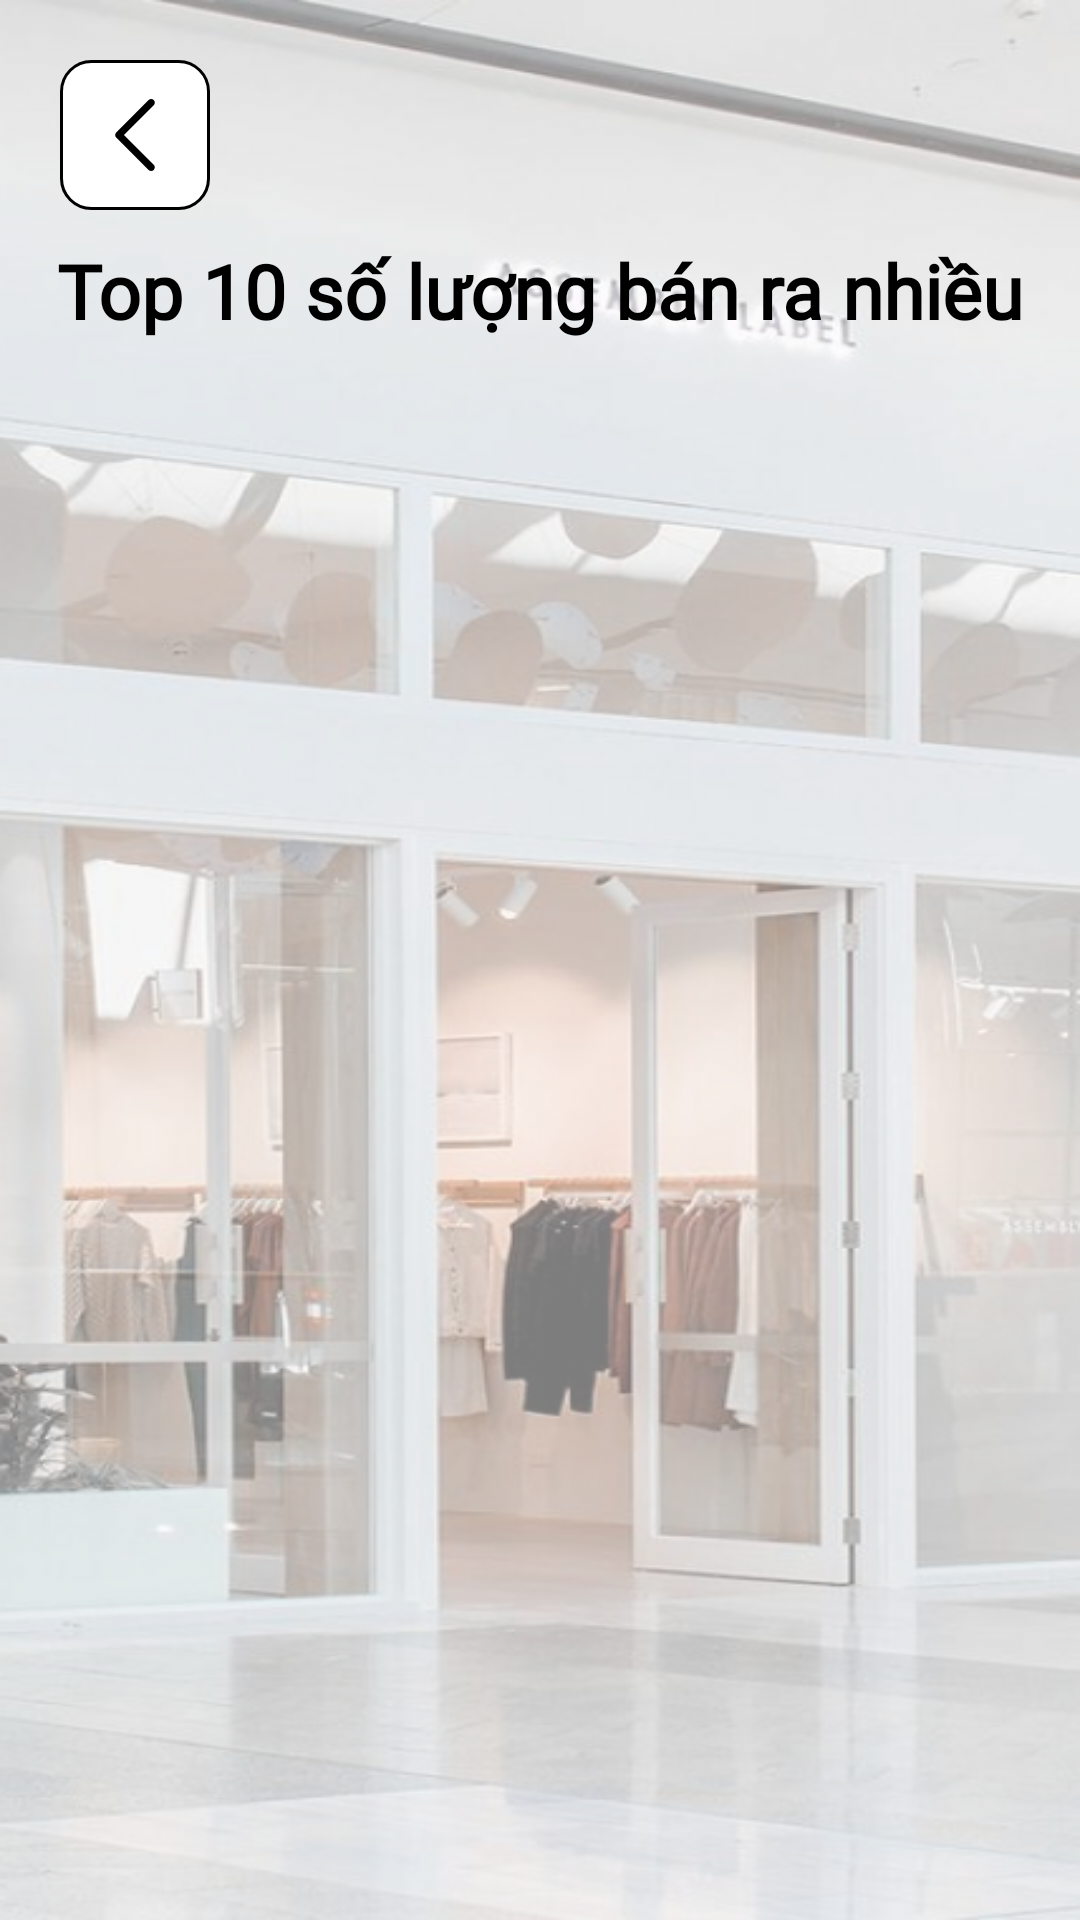

Icons on this 1080x1920 Android screen, each with the point to tap as point (x, y):
back: point (135, 135)
